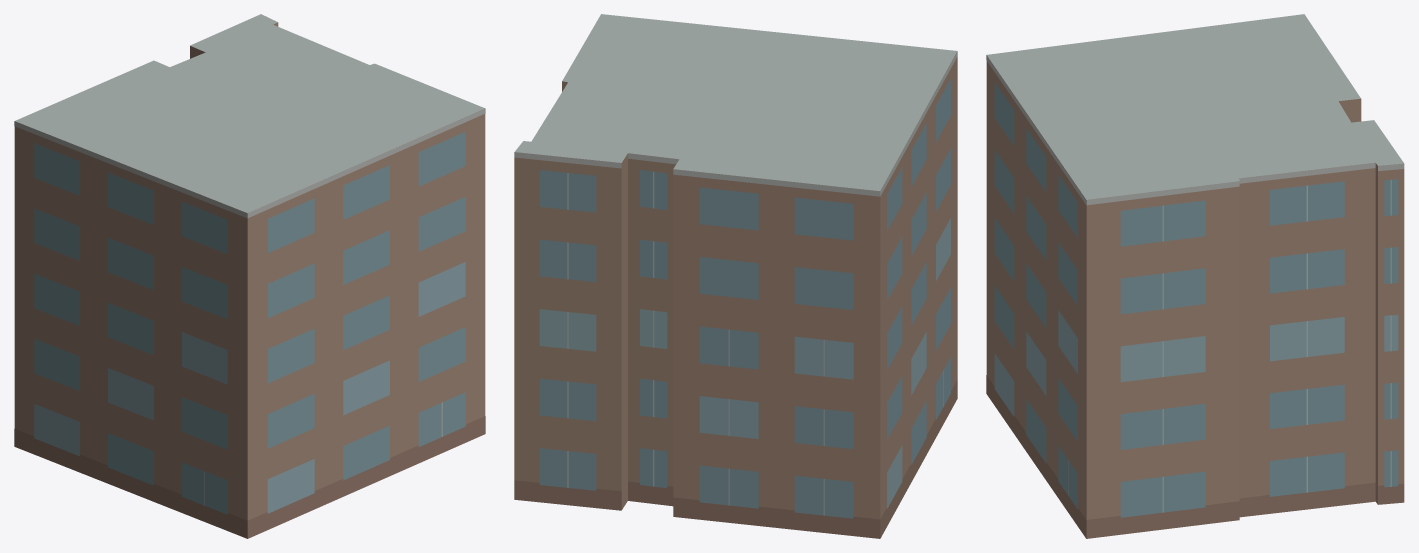
The model's file is survey-upis-32941571.glb.
The picture shows the model from 3 angles, left to right: view 1: azimuth 30°, elevation 25°; view 2: azimuth 150°, elevation 25°; view 3: azimuth 270°, elevation 25°; orthographic projection. The views are drawn at different scales.
Visible parts, largest first — view 1: survey-upis-32941571.tmp; view 2: survey-upis-32941571.tmp; view 3: survey-upis-32941571.tmp.
Part boxes in pixels (<box>): survey-upis-32941571.tmp: <box>14,14,485,538</box>; survey-upis-32941571.tmp: <box>514,14,957,538</box>; survey-upis-32941571.tmp: <box>986,14,1404,538</box>.
Size of the model in its own units: 18.19 by 15.45 by 17.28.
